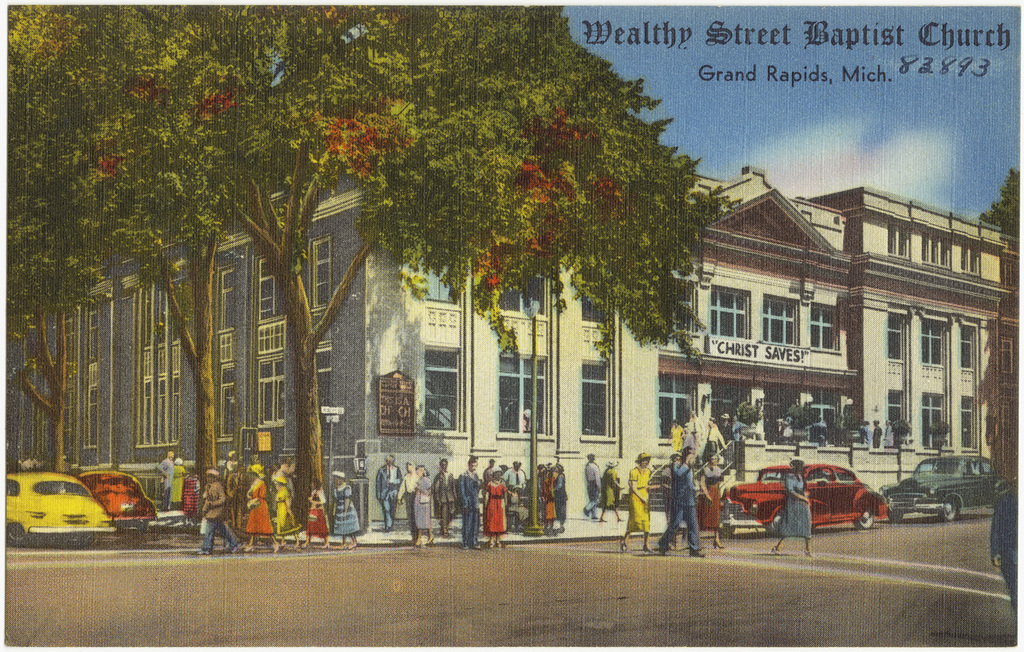Car: (721, 462, 888, 538), (0, 467, 110, 544), (877, 454, 995, 525), (73, 469, 157, 530)
